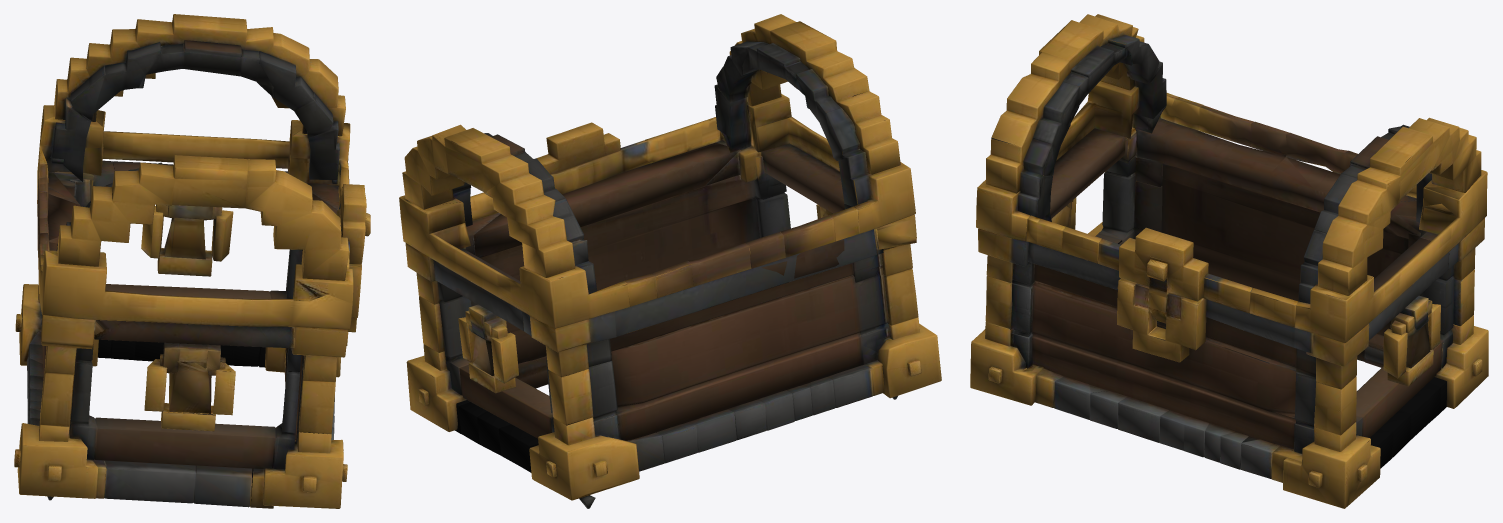
Rendered from bau_segmentado.glb.
The picture shows the model from 3 angles, left to right: view 1: azimuth 30°, elevation 25°; view 2: azimuth 150°, elevation 25°; view 3: azimuth 270°, elevation 25°; orthographic projection. The views are drawn at different scales.
Visible parts, largest first — view 1: tripo_part_1, tripo_part_4, tripo_part_2, tripo_part_10, tripo_part_6, tripo_part_14, tripo_part_33, tripo_part_30, tripo_part_29, tripo_part_20, tripo_part_11, tripo_part_0 (+21 smaller); view 2: tripo_part_0, tripo_part_1, tripo_part_6, tripo_part_3, tripo_part_7, tripo_part_4, tripo_part_58, tripo_part_23, tripo_part_28, tripo_part_19, tripo_part_30, tripo_part_33 (+20 smaller); view 3: tripo_part_0, tripo_part_1, tripo_part_6, tripo_part_8, tripo_part_3, tripo_part_4, tripo_part_39, tripo_part_5, tripo_part_25, tripo_part_13, tripo_part_26, tripo_part_17 (+19 smaller).
Boxes of the visible parts, bbox=[...] form: tripo_part_1: bbox=[37, 105, 353, 329]; tripo_part_4: bbox=[57, 155, 348, 280]; tripo_part_2: bbox=[50, 40, 339, 181]; tripo_part_10: bbox=[69, 346, 301, 469]; tripo_part_6: bbox=[54, 14, 345, 136]; tripo_part_14: bbox=[93, 459, 273, 508]; tripo_part_33: bbox=[17, 423, 98, 498]; tripo_part_30: bbox=[94, 320, 294, 348]; tripo_part_29: bbox=[263, 439, 343, 508]; tripo_part_20: bbox=[159, 342, 225, 413]; tripo_part_11: bbox=[297, 355, 336, 453]; tripo_part_0: bbox=[42, 179, 304, 443]; tripo_part_0: bbox=[437, 175, 890, 440]; tripo_part_1: bbox=[399, 94, 915, 328]; tripo_part_6: bbox=[402, 124, 575, 277]; tripo_part_3: bbox=[714, 41, 873, 209]; tripo_part_7: bbox=[627, 360, 884, 471]; tripo_part_4: bbox=[729, 14, 900, 174]; tripo_part_58: bbox=[473, 142, 739, 257]; tripo_part_23: bbox=[582, 229, 876, 345]; tripo_part_28: bbox=[529, 432, 639, 500]; tripo_part_19: bbox=[545, 344, 595, 445]; tripo_part_30: bbox=[760, 143, 844, 213]; tripo_part_33: bbox=[877, 324, 941, 398]; tripo_part_0: bbox=[1032, 164, 1454, 449]; tripo_part_1: bbox=[976, 81, 1487, 343]; tripo_part_6: bbox=[1318, 117, 1481, 295]; tripo_part_8: bbox=[1023, 365, 1302, 482]; tripo_part_3: bbox=[1017, 34, 1166, 221]; tripo_part_4: bbox=[986, 14, 1144, 193]; tripo_part_39: bbox=[1135, 118, 1396, 235]; tripo_part_5: bbox=[1117, 278, 1206, 362]; tripo_part_25: bbox=[1283, 435, 1380, 508]; tripo_part_13: bbox=[1119, 227, 1208, 301]; tripo_part_26: bbox=[1027, 242, 1313, 353]; tripo_part_17: bbox=[1314, 356, 1357, 451].
Bounding box in the file's own units: 0.9634 × 0.7544 × 0.9995.
64 materials, 64 textured.
